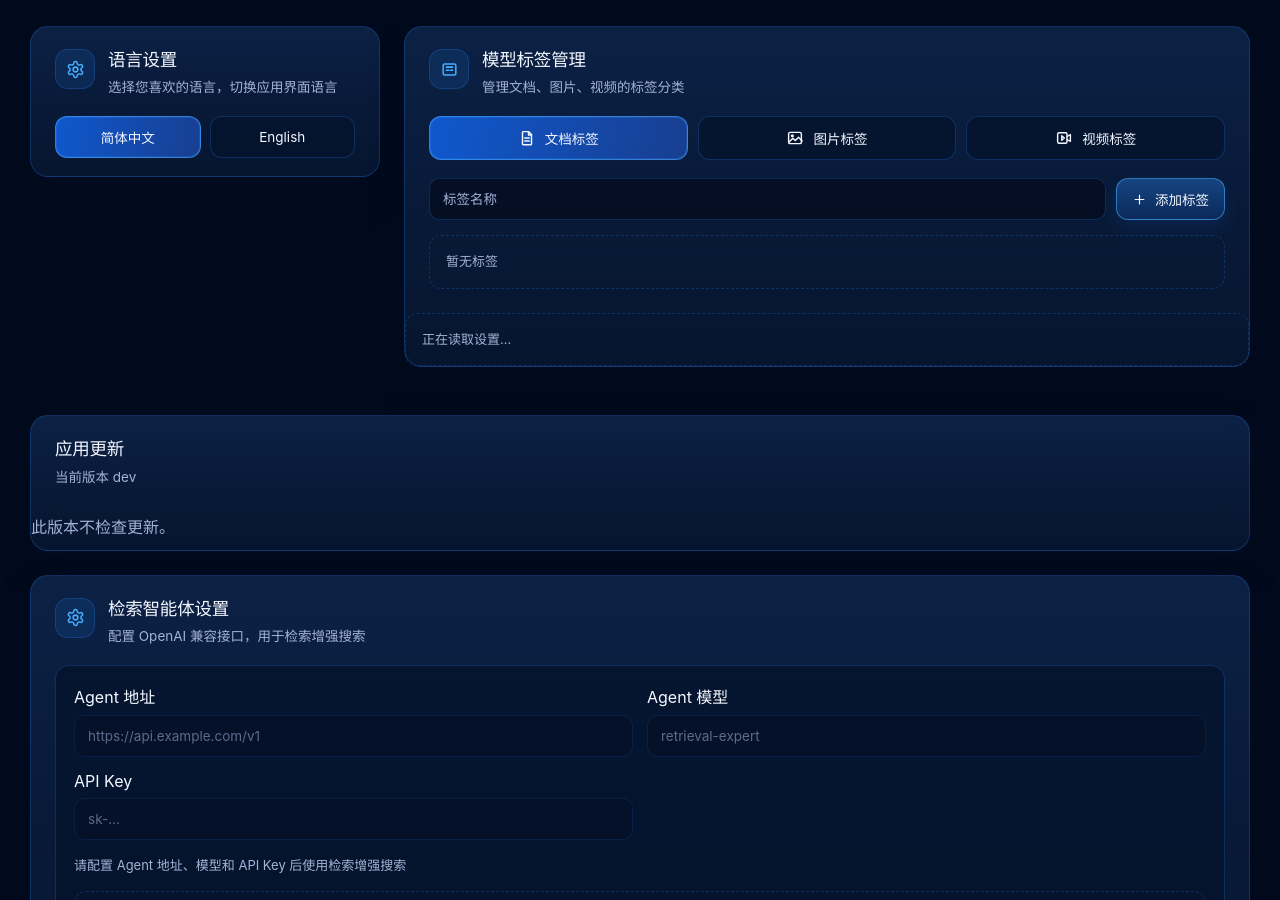
Scenario: SettingsPage › switches language
Expected: the text "选择您喜欢的语言，切换应用界面语言" is shown, [108,77,338,98]
Expected: the heading "语言设置" is shown, [108,49,177,70]
Click the button "English" at (282, 137), box [210,116,355,158]
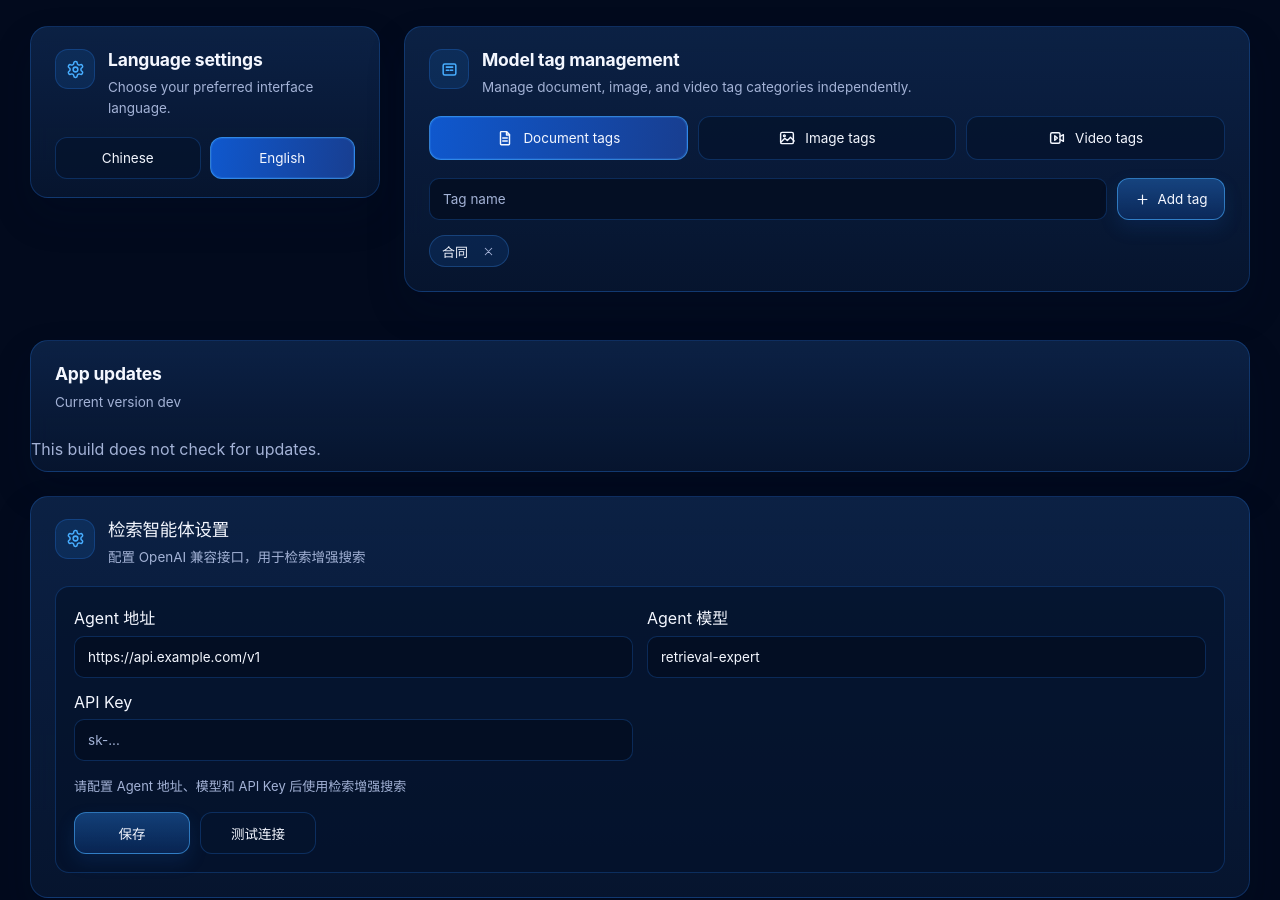
Result: the text "Choose your preferred interface language." is shown at [108,79,313,116]
Result: the heading "Language settings" is shown at [108,49,262,70]
